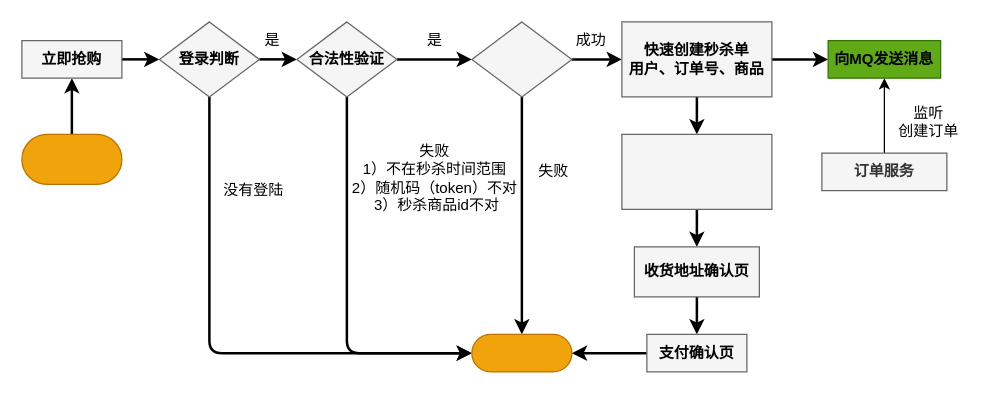
The diagram is 994 pixels wide and 394 high, and some of its shapes have lost their labels. The shapes that lost their labels are listed below. From the top down, each one's centre as x and y in pixels, then its label:
At [521,59]: "获取信号量".
At [71,158]: "秒杀".
At [696,171]: "秒杀成功，正在创建订单".
At [521,352]: "结束".
